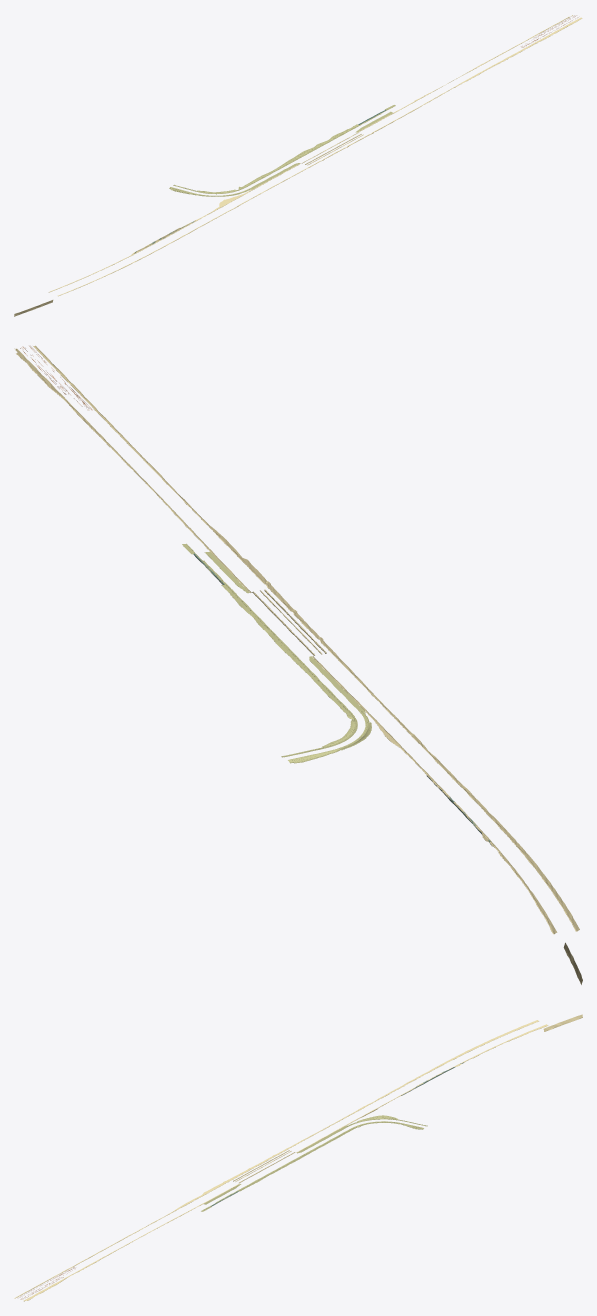
The picture shows the model from 3 angles, top to bottom: view 1: azimuth 90°, elevation 25°; view 2: azimuth 150°, elevation 25°; view 3: azimuth 270°, elevation 25°; orthographic projection. The views are drawn at different scales.
Size of the model in its own units: 1395 by 25.45 by 1144.
